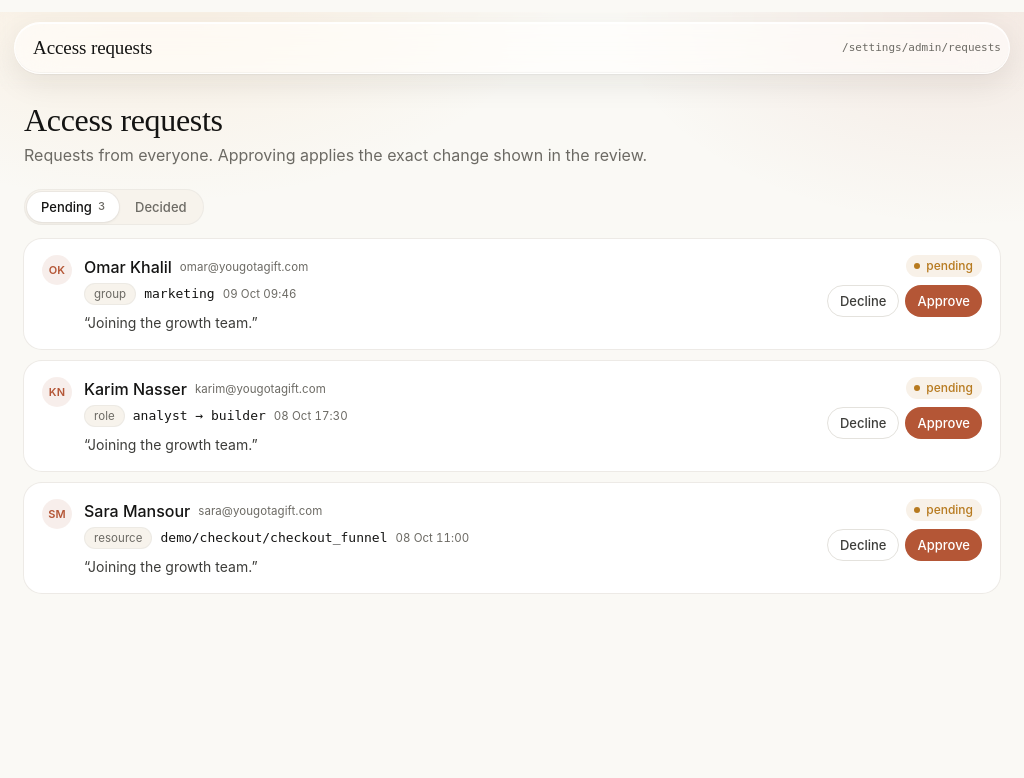
AdminRequestsPage › an invalid expiry blocks the approval and says what to do
Click the button "Approve" in the row of "08 Oct 11:00": {"x": 944, "y": 545} left=906, top=529, right=982, bottom=561
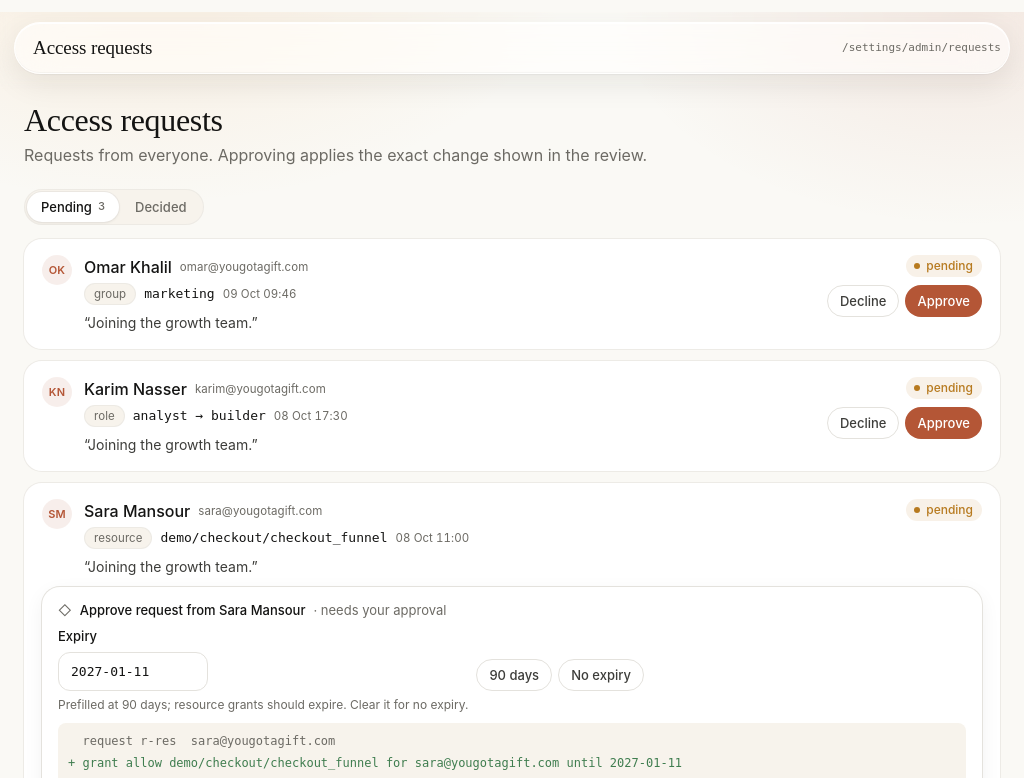
Replace the text in the field labelled "Expiry" with "2026-13-40": {"x": 133, "y": 671} left=58, top=652, right=208, bottom=691
(page scrolled)
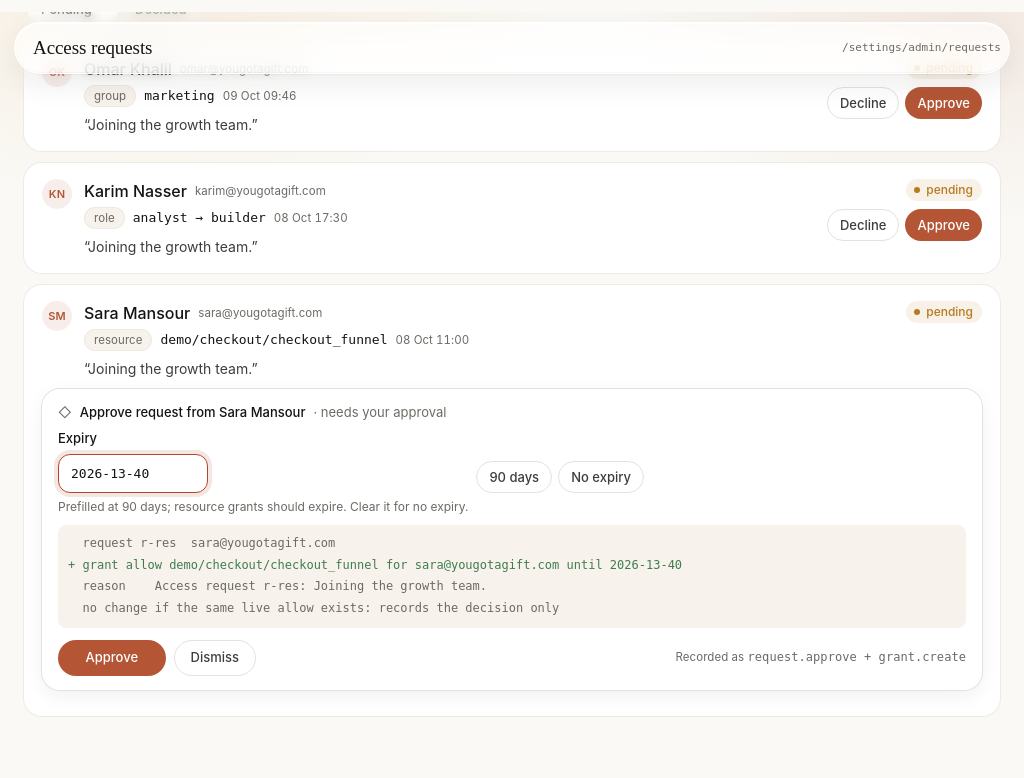
Click the button "Approve" in the row of "Recorded as": {"x": 112, "y": 658} left=58, top=640, right=166, bottom=676
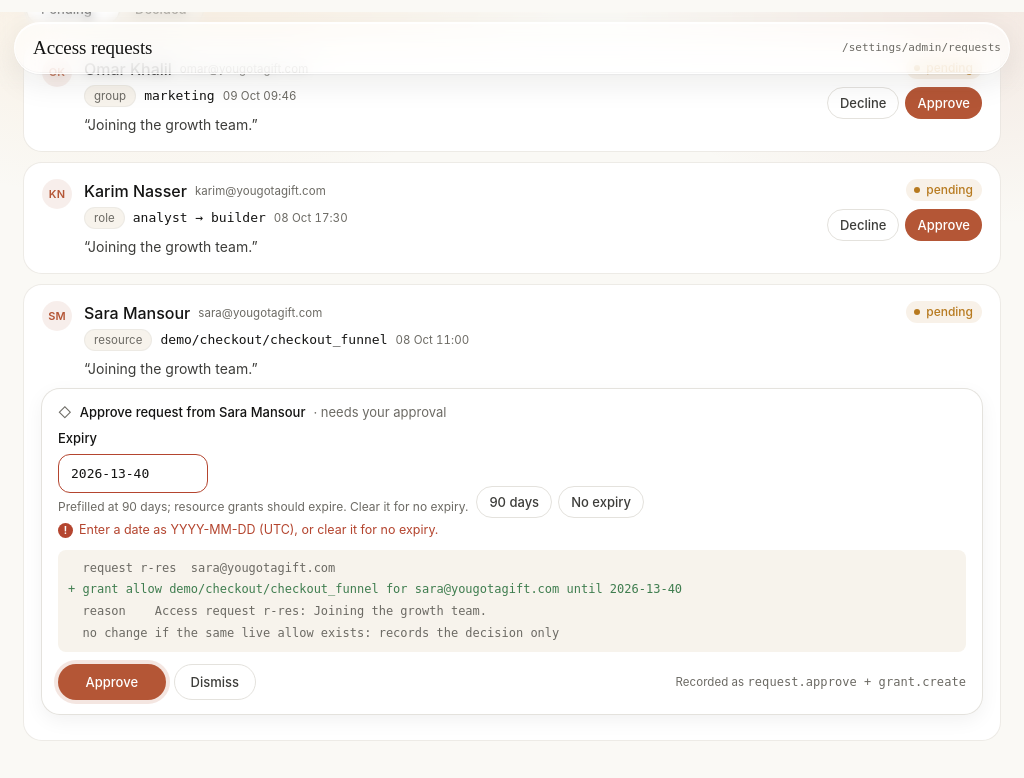
Now the text "Enter a date as YYYY-MM-DD" is shown, box left=79, top=522, right=438, bottom=537
